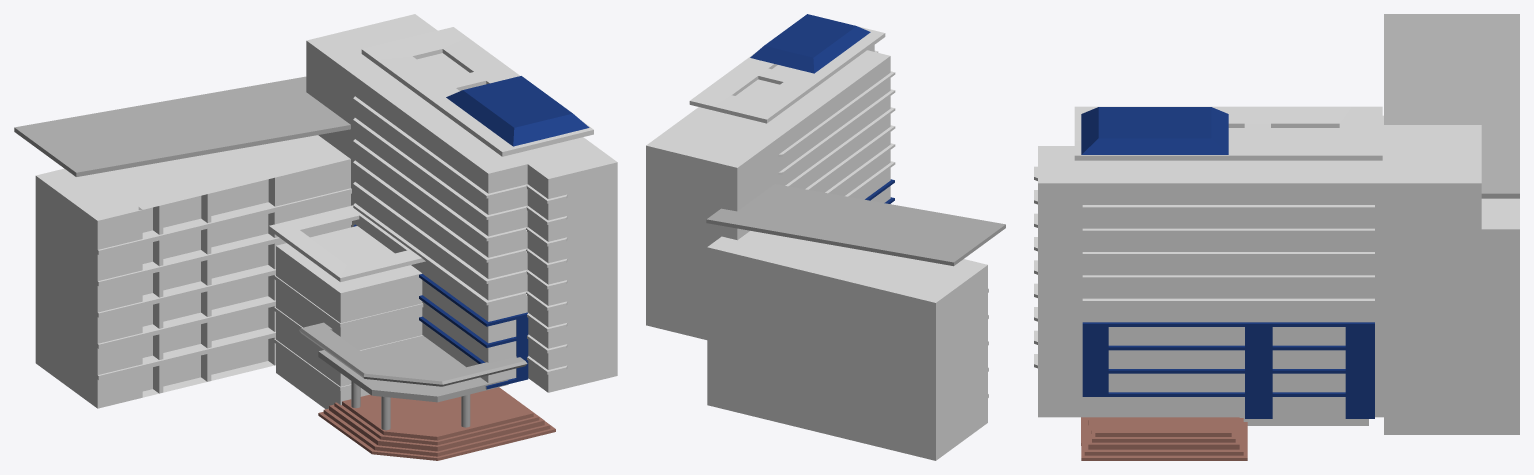
Rendered from pens1.fbx.
3 renders of one model, left to right at view 1: azimuth 30°, elevation 25°; view 2: azimuth 150°, elevation 25°; view 3: azimuth 270°, elevation 25°, orthographic. The views are drawn at different scales.
Visible parts, largest first — view 1: Plane.002; view 2: Plane.002; view 3: Plane.002.
Boxes of the visible parts, bbox=[...] form: Plane.002: bbox=[14, 14, 617, 460]; Plane.002: bbox=[646, 14, 1005, 460]; Plane.002: bbox=[1034, 14, 1519, 460].
Size of the model in its own units: 949 by 720 by 941.
